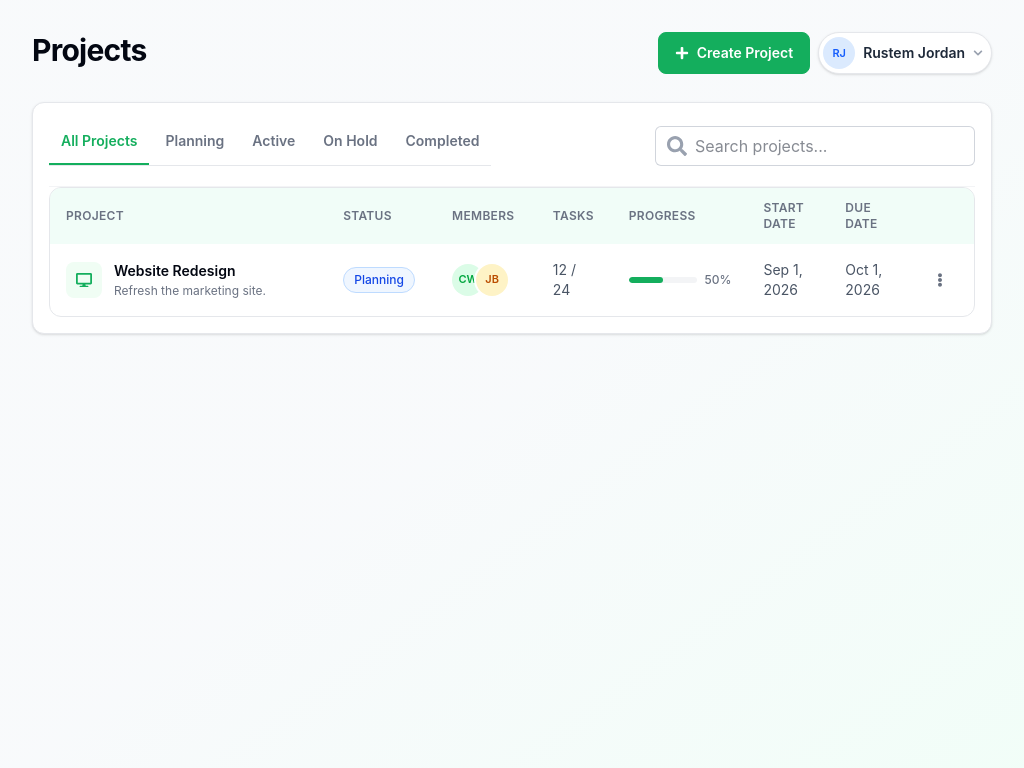
Test: Projects page › closes the delete confirmation without deleting the project
Step 1. Click the button named "Actions for Website Redesign" → coordinates (940, 280), box [922,262,958,298]
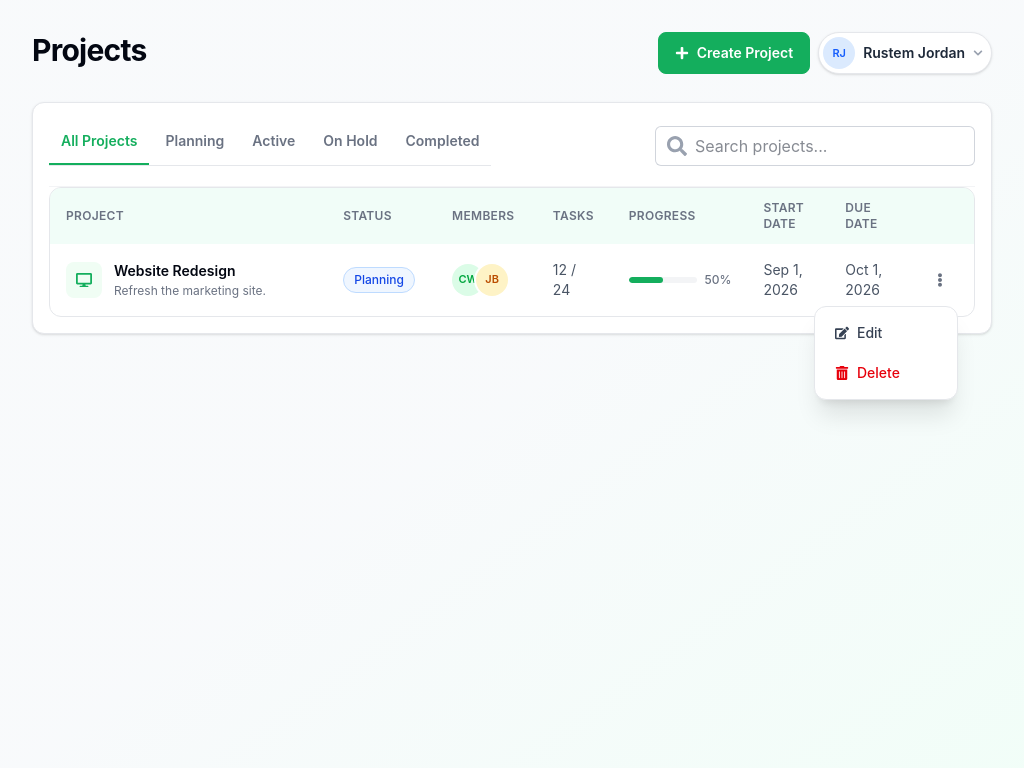
Step 2. Click the menu item "Delete" → coordinates (886, 373), box [823,355,949,391]
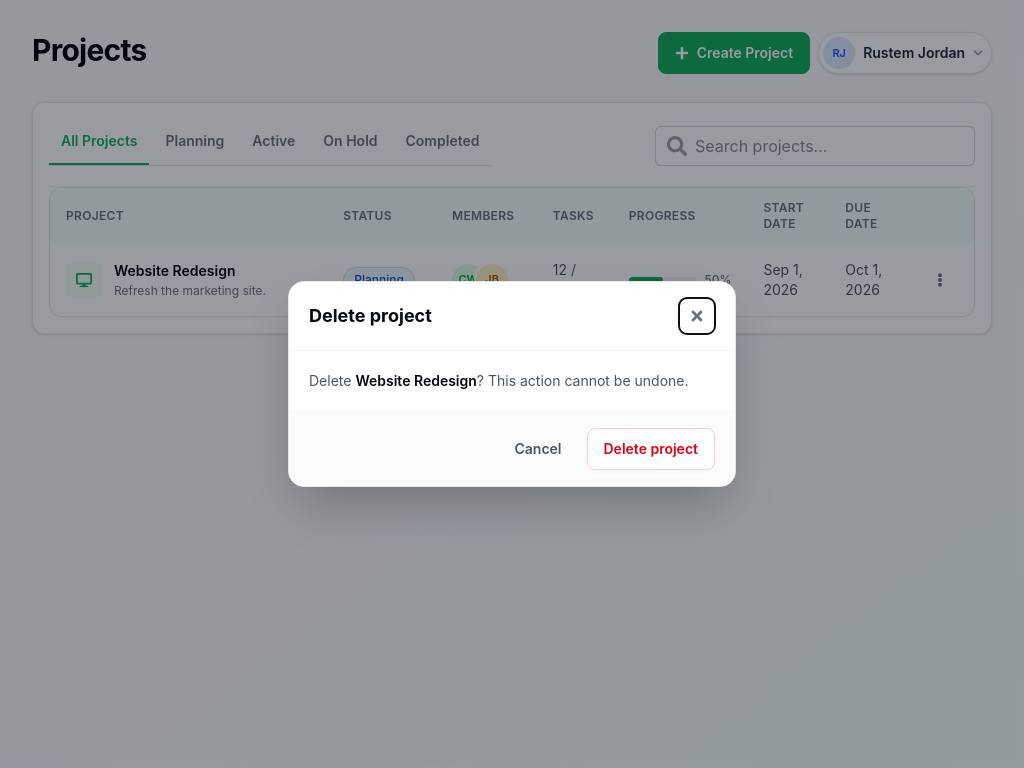
Check: the dialog "Delete project" is shown, box [288,281,736,487]
Step 3. Click the button "Cancel" → coordinates (538, 449), box [498,428,578,470]
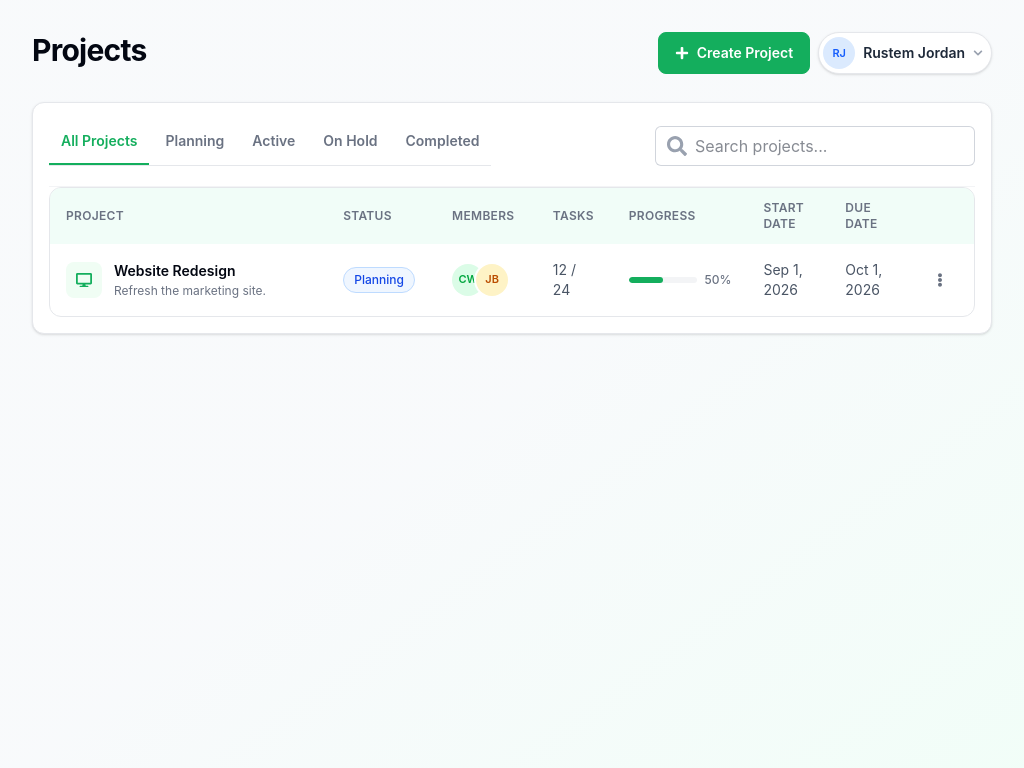
Check: the heading "Delete project" is gone
